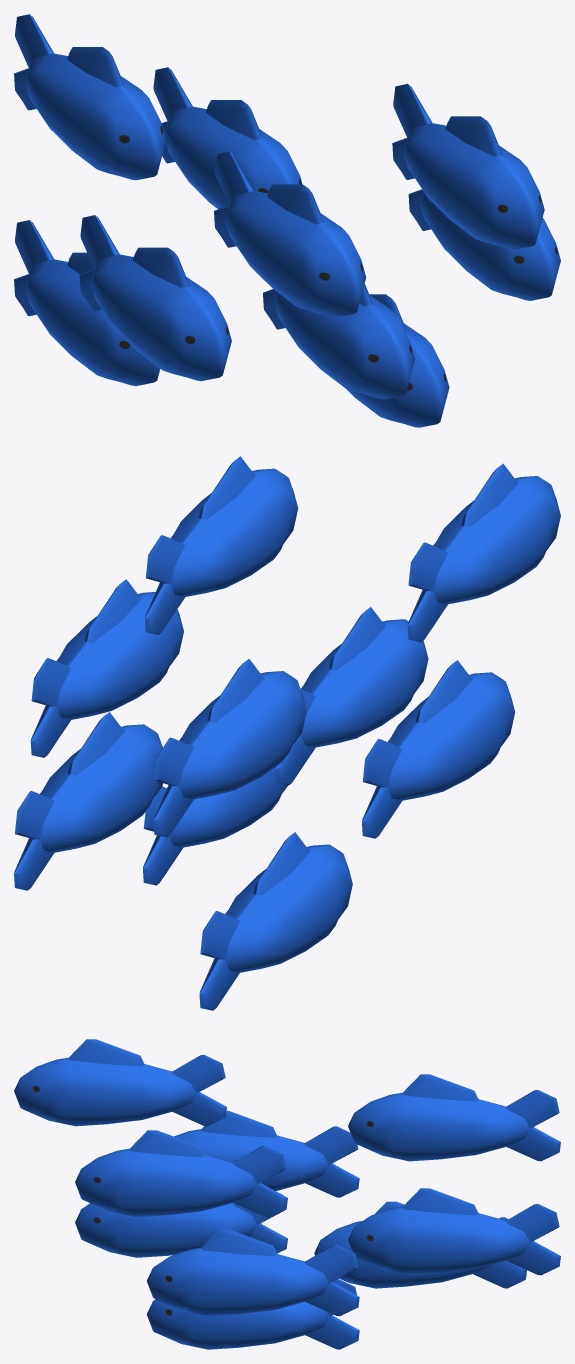
The model's file is FishSchool.fbx.
The picture shows the model from 3 angles, top to bottom: view 1: azimuth 30°, elevation 25°; view 2: azimuth 150°, elevation 25°; view 3: azimuth 270°, elevation 25°; orthographic projection. The views are drawn at different scales.
Visible parts, largest first — view 1: pCube12; view 2: pCube12; view 3: pCube12.
Boxes of the visible parts, left/top/right/bottom form: pCube12: left=14, top=14, right=560, bottom=427; pCube12: left=14, top=456, right=560, bottom=1010; pCube12: left=14, top=1039, right=560, bottom=1349.
Size of the model in its own units: 9.85 by 8.02 by 16.02.
